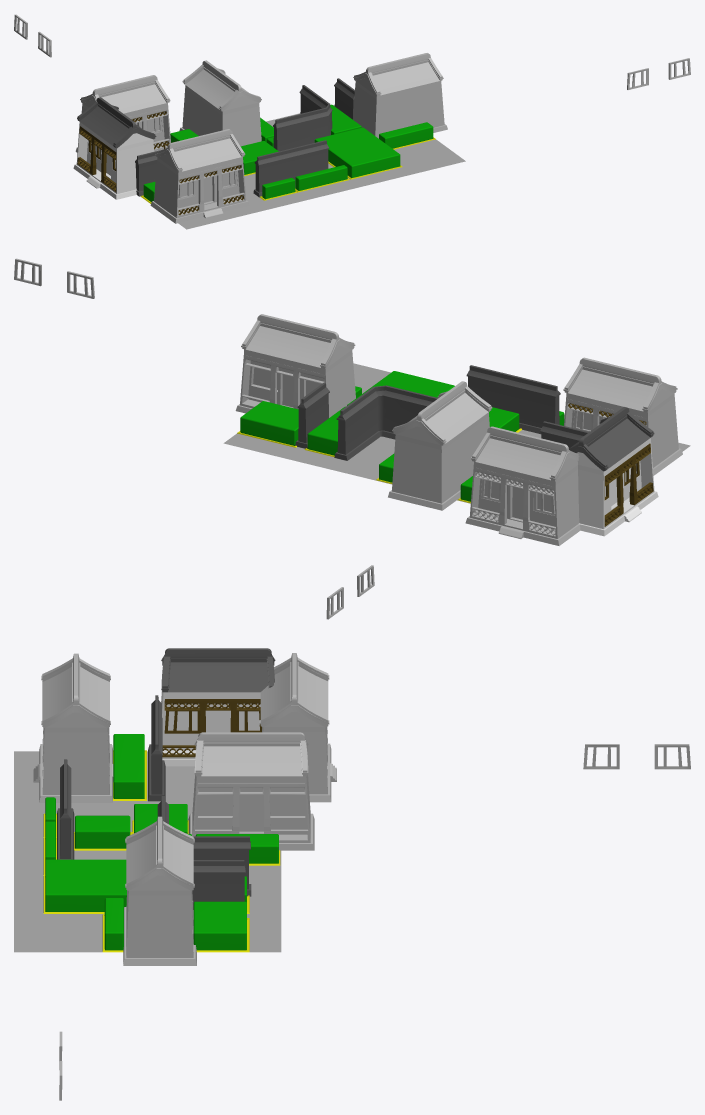
File: Level01_Layout.fbx
3 views of the same model, one above another, from view 1: azimuth 30°, elevation 25°; view 2: azimuth 150°, elevation 25°; view 3: azimuth 270°, elevation 25° (orthographic). The views are drawn at different scales.
Visible parts, largest first — view 1: Level1_0003:Body (×5), Level1_0003:Roof (×5), Level1_0003:Ground, Level1_0003:pCube6, Level1_0003:polySurface1 (×3), Level1_0003:polySurface3, Level1_0003:WindowFrames (×3), Level1_0003:WoodBeams, Level1_0003:pCube23, Level1_0003:polySurface4, Level1_0003:pCube2, Level1_0003:WoodBeams1 (+5 smaller); view 2: Level1_0003:Body (×5), Level1_0003:Roof (×5), Level1_0003:Ground, Level1_0003:polySurface1 (×2), Level1_0003:polySurface3, Level1_0003:WoodBeams (×2), Level1_0003:pCube21, Level1_0003:WindowFrames (×2), Level1_0003:polySurface4, Level1_0003:polySurface2, Level1_0003:WoodBeams1, Level1_0003:pCube6 (+2 smaller); view 3: Level1_0003:Body (×5), Level1_0003:Roof (×5), Level1_0003:Ground, Level1_0003:pCube6, Level1_0003:WoodBeams (×2), Level1_0003:polySurface1 (×3), Level1_0003:pCube21, Level1_0003:pCube11, Level1_0003:WindowFrames (×2), Level1_0003:pCube8, Level1_0003:pCube9, Level1_0003:pCube23 (+4 smaller).
Part boxes in pixels (x1,y1,x2,y2): Level1_0003:Body (×5): (73,77,447,223); Level1_0003:Roof (×5): (77,53,443,172); Level1_0003:Ground: (178,105,465,229); Level1_0003:pCube6: (314,127,400,178); Level1_0003:polySurface1 (×3): (135,87,354,197); Level1_0003:polySurface3: (273,94,332,151); Level1_0003:WindowFrames (×3): (14,14,690,199); Level1_0003:WoodBeams: (178,161,245,216); Level1_0003:pCube23: (379,122,433,148); Level1_0003:polySurface4: (273,85,332,129); Level1_0003:pCube2: (295,165,347,190); Level1_0003:WoodBeams1: (77,126,116,192); Level1_0003:Body (×5): (235,345,682,545); Level1_0003:Roof (×5): (241,314,677,481); Level1_0003:Ground: (223,363,690,503); Level1_0003:polySurface1 (×2): (295,376,559,448); Level1_0003:polySurface3: (334,397,425,460); Level1_0003:WoodBeams (×2): (241,355,556,537); Level1_0003:pCube21: (240,401,298,445); Level1_0003:WindowFrames (×2): (14,258,374,619); Level1_0003:polySurface4: (336,385,438,421); Level1_0003:polySurface2: (466,365,560,397); Level1_0003:WoodBeams1: (604,443,653,526); Level1_0003:pCube6: (347,371,454,405); Level1_0003:Body (×5): (33,690,336,965); Level1_0003:Roof (×5): (41,648,329,890); Level1_0003:Ground: (14,751,281,952); Level1_0003:pCube6: (45,859,126,911); Level1_0003:WoodBeams (×2): (162,699,308,841); Level1_0003:polySurface1 (×3): (57,744,244,909); Level1_0003:pCube21: (193,901,246,950); Level1_0003:pCube11: (113,734,144,798); Level1_0003:WindowFrames (×2): (164,710,690,769); Level1_0003:pCube8: (75,815,130,848); Level1_0003:pCube9: (134,804,187,833); Level1_0003:pCube23: (104,898,123,950).
Size of the model in its own units: 96.25 by 11.66 by 70.24.
